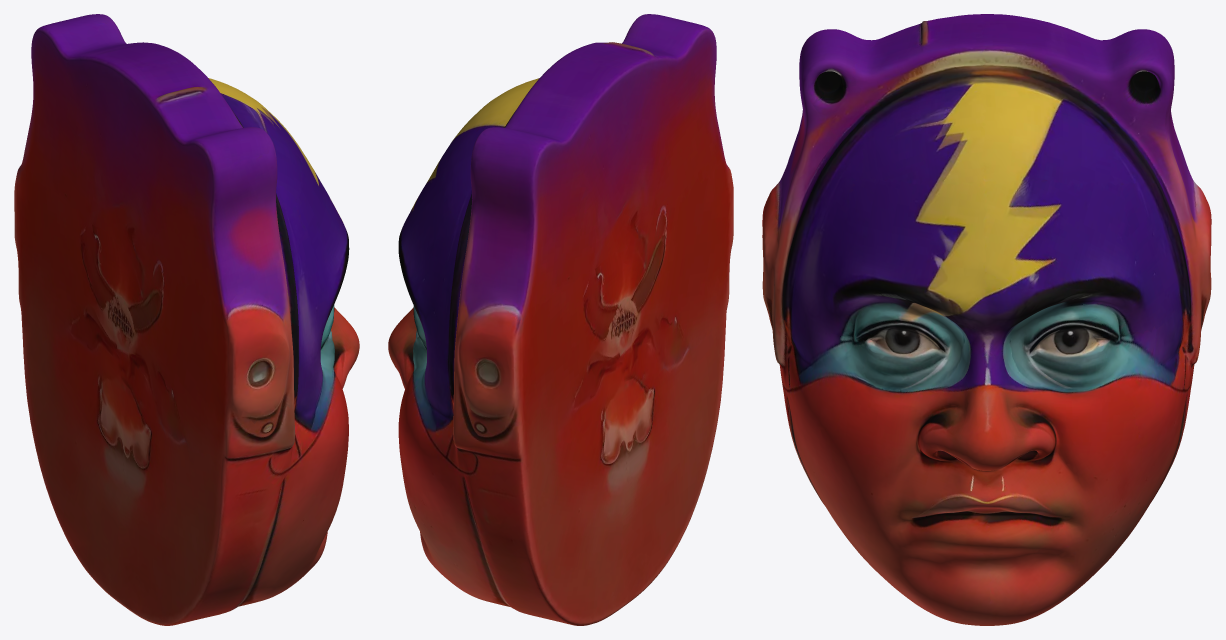
3 views of the same model, side by side, from view 1: azimuth 30°, elevation 25°; view 2: azimuth 150°, elevation 25°; view 3: azimuth 270°, elevation 25° (orthographic).
Parts seen in each view (by area): view 1: tripo_node_7546cc6e-aab9-4612-962a-5963c71b937f; view 2: tripo_node_7546cc6e-aab9-4612-962a-5963c71b937f; view 3: tripo_node_7546cc6e-aab9-4612-962a-5963c71b937f.
Boxes of the visible parts, box(x1,y1,x2,y2) form: tripo_node_7546cc6e-aab9-4612-962a-5963c71b937f: box(14, 14, 359, 625); tripo_node_7546cc6e-aab9-4612-962a-5963c71b937f: box(388, 14, 733, 625); tripo_node_7546cc6e-aab9-4612-962a-5963c71b937f: box(762, 14, 1211, 625).
Size of the model in its own units: 0.432 by 0.9491 by 0.7143.
1 material, 1 textured.
